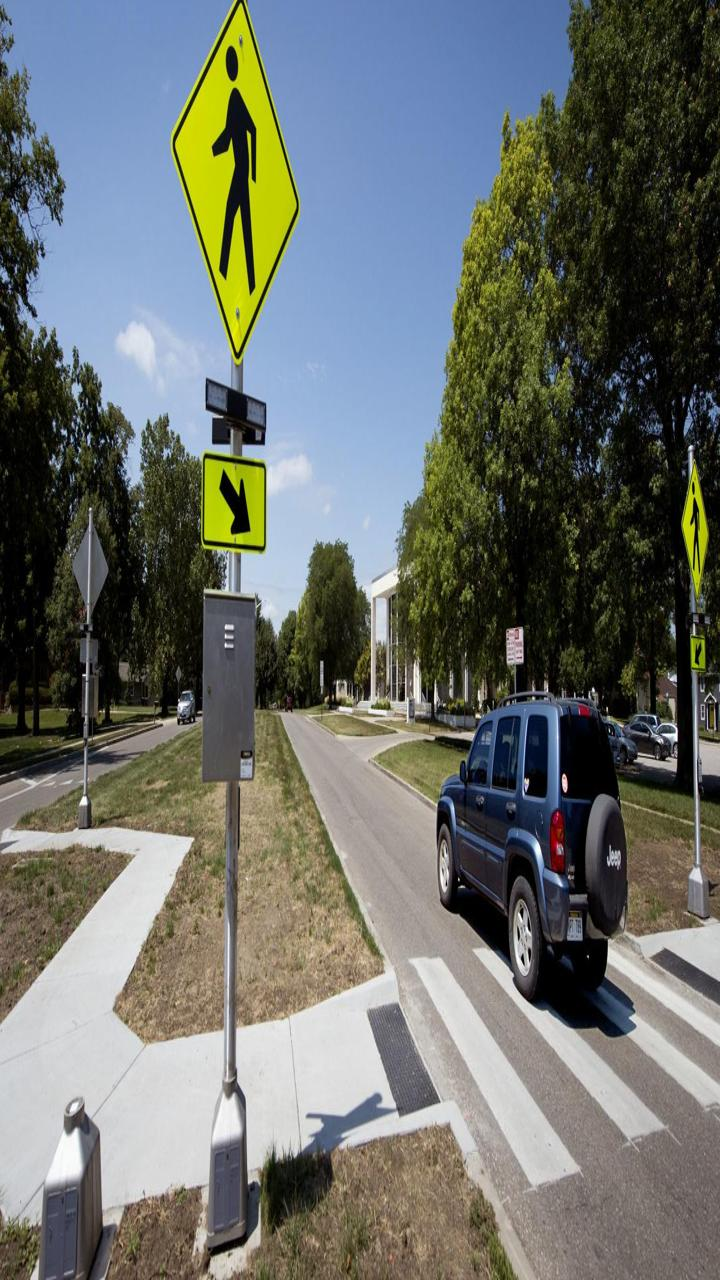Traffic sign: (136, 5, 336, 363), (172, 441, 288, 571), (660, 435, 720, 591), (660, 625, 718, 675)
vehicle: (408, 692, 654, 1004)
